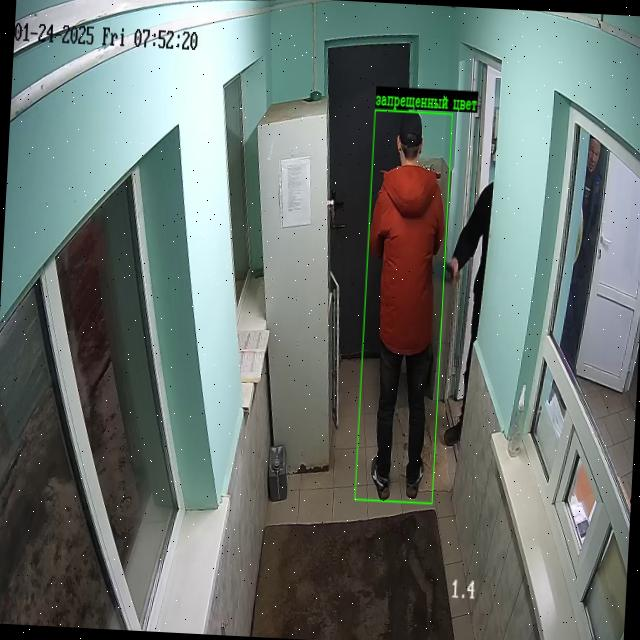Person: (369, 114, 444, 499), (443, 182, 493, 446), (560, 137, 606, 371)
